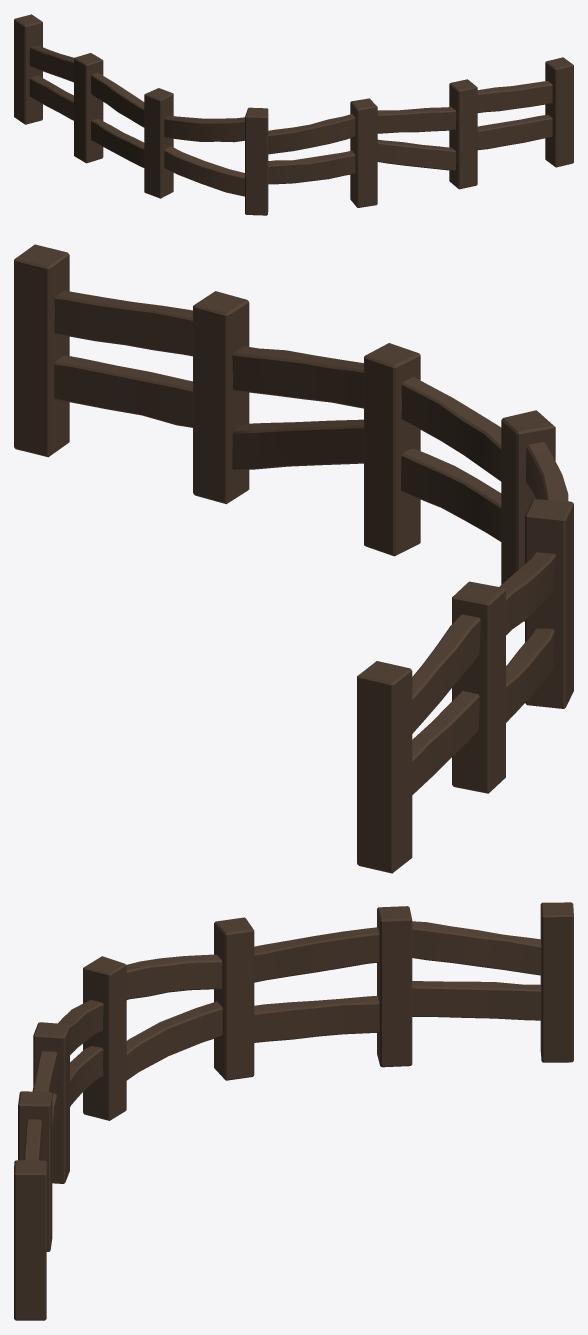
Rendered from Curved_fence.fbx.
The picture shows the model from 3 angles, top to bottom: view 1: azimuth 30°, elevation 25°; view 2: azimuth 150°, elevation 25°; view 3: azimuth 270°, elevation 25°; orthographic projection. The views are drawn at different scales.
Parts seen in each view (by area): view 1: Curved_fence.001; view 2: Curved_fence.001; view 3: Curved_fence.001.
Part boxes in pixels (left/top/right/bottom): Curved_fence.001: left=14, top=14, right=573, bottom=215; Curved_fence.001: left=14, top=244, right=573, bottom=873; Curved_fence.001: left=14, top=902, right=573, bottom=1320.
Size of the model in its own units: 395 by 100 by 344.
